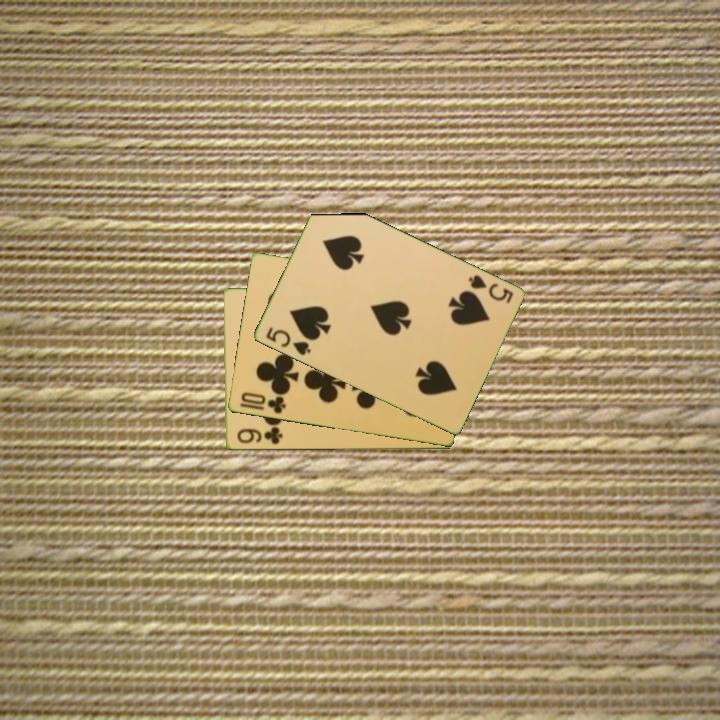10c: (237, 389, 288, 417)
5s: (464, 271, 516, 306), (262, 324, 313, 358)
9c: (233, 424, 285, 447)
